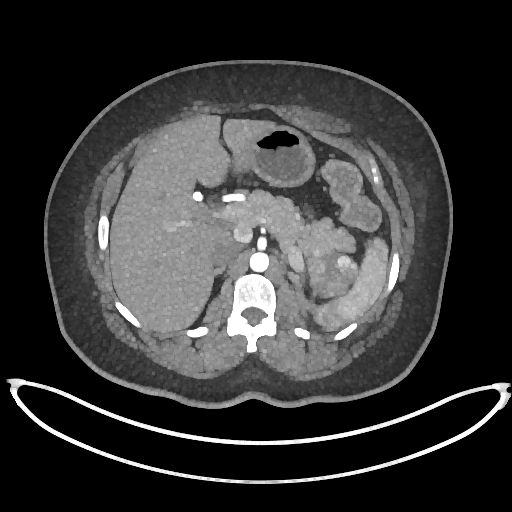Lesion: (336, 251, 354, 270)
